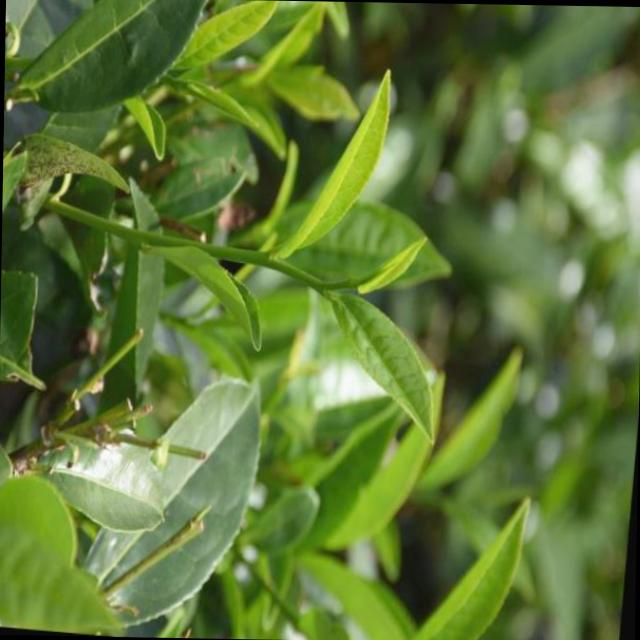Stem: (309, 276, 325, 291)
